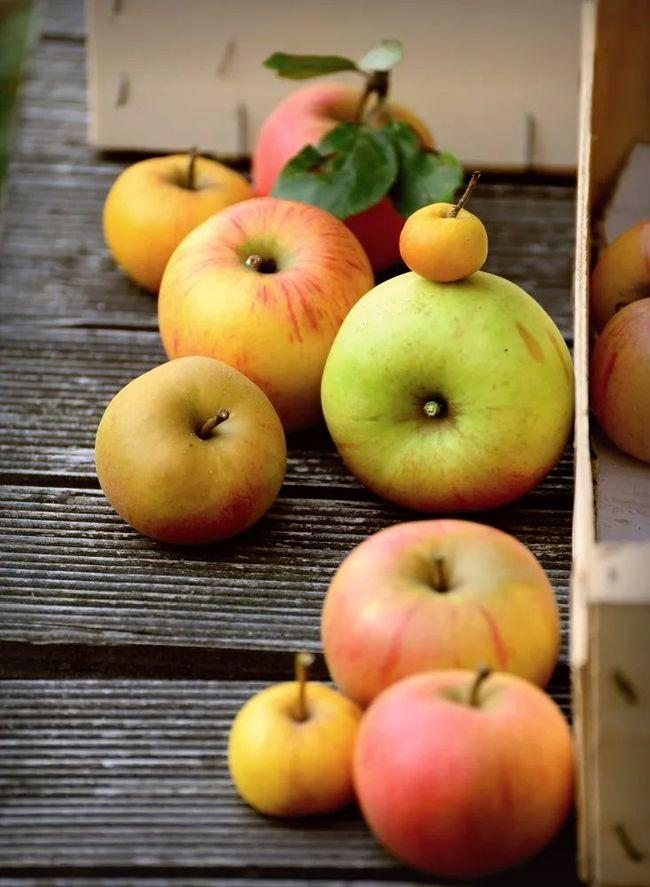apple: (315, 271, 578, 524), (157, 198, 384, 415), (350, 660, 570, 877), (315, 519, 558, 709), (93, 359, 292, 550), (249, 85, 442, 272), (100, 152, 251, 294), (224, 676, 362, 822), (401, 204, 487, 283)
